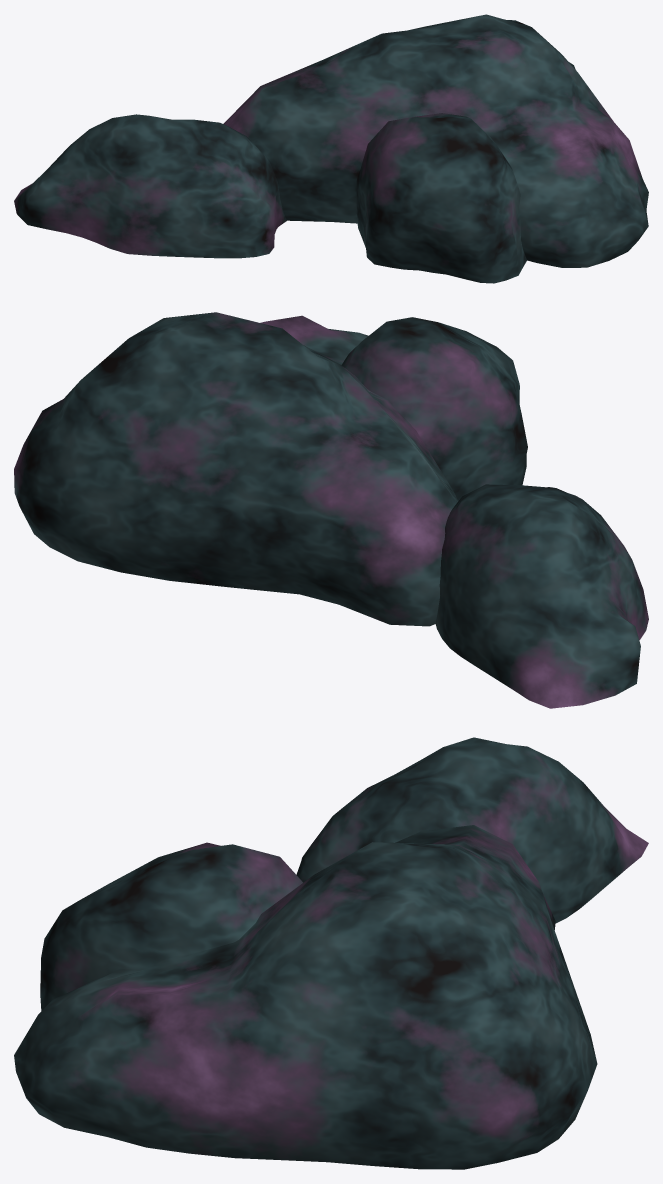
The model's file is CA_072_stones.glb.
3 renders of one model, top to bottom at view 1: azimuth 30°, elevation 25°; view 2: azimuth 150°, elevation 25°; view 3: azimuth 270°, elevation 25°, orthographic. The views are drawn at different scales.
Visible parts, largest first — view 1: stones; view 2: stones; view 3: stones.
Boxes of the visible parts, x1=… form: stones: x1=14, y1=14, x2=648, y2=283; stones: x1=14, y1=312, x2=648, y2=708; stones: x1=14, y1=737, x2=648, y2=1169.
Size of the model in its own units: 1.36 by 0.3621 by 1.03.
1 material, 1 textured.
